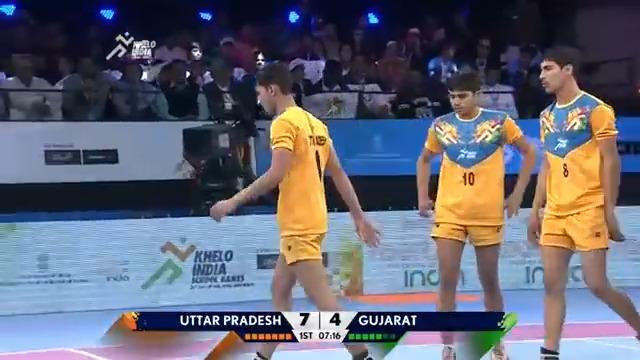Player: (208, 60, 381, 358), (526, 44, 639, 358), (415, 70, 536, 359)
referee: (199, 56, 258, 190), (174, 121, 256, 215)
